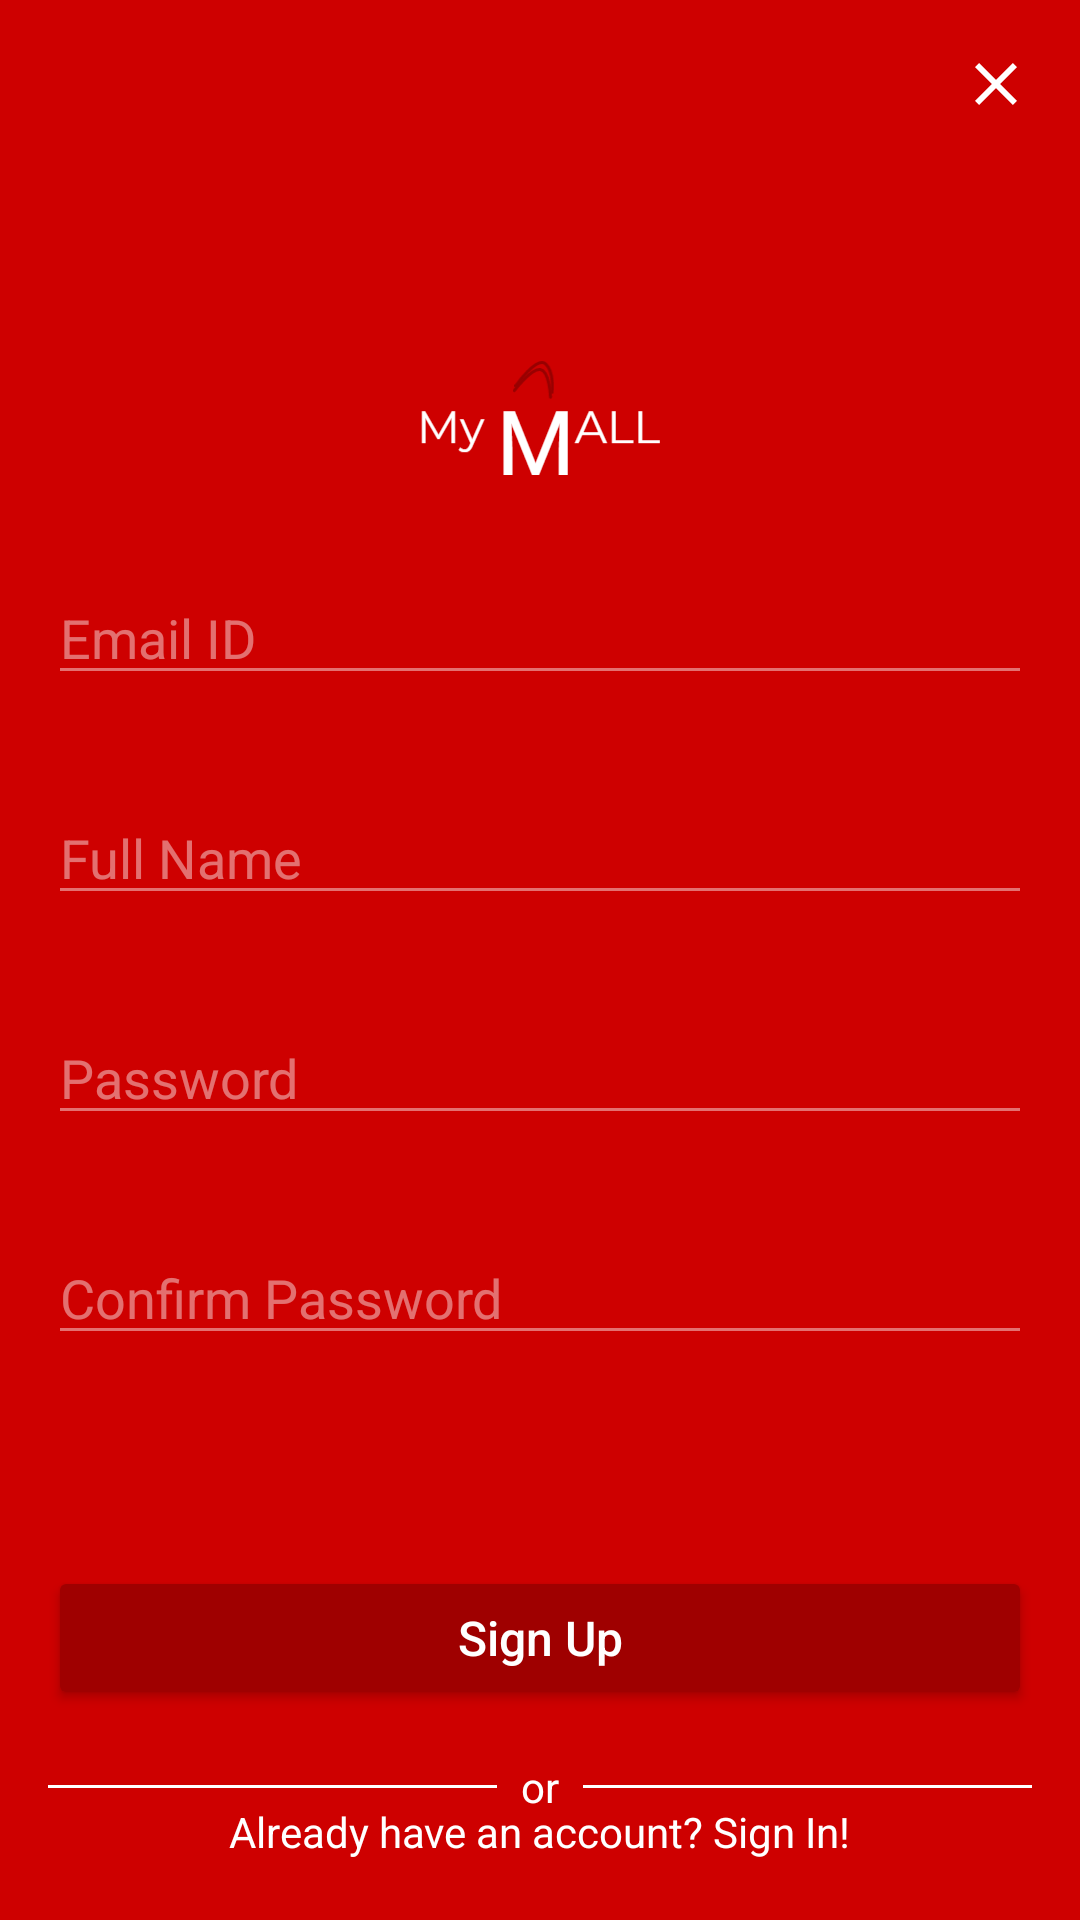

Screen size 1080*1920. Icon name, then its center in pixels as [x,y]:
close cross: [996,84]
